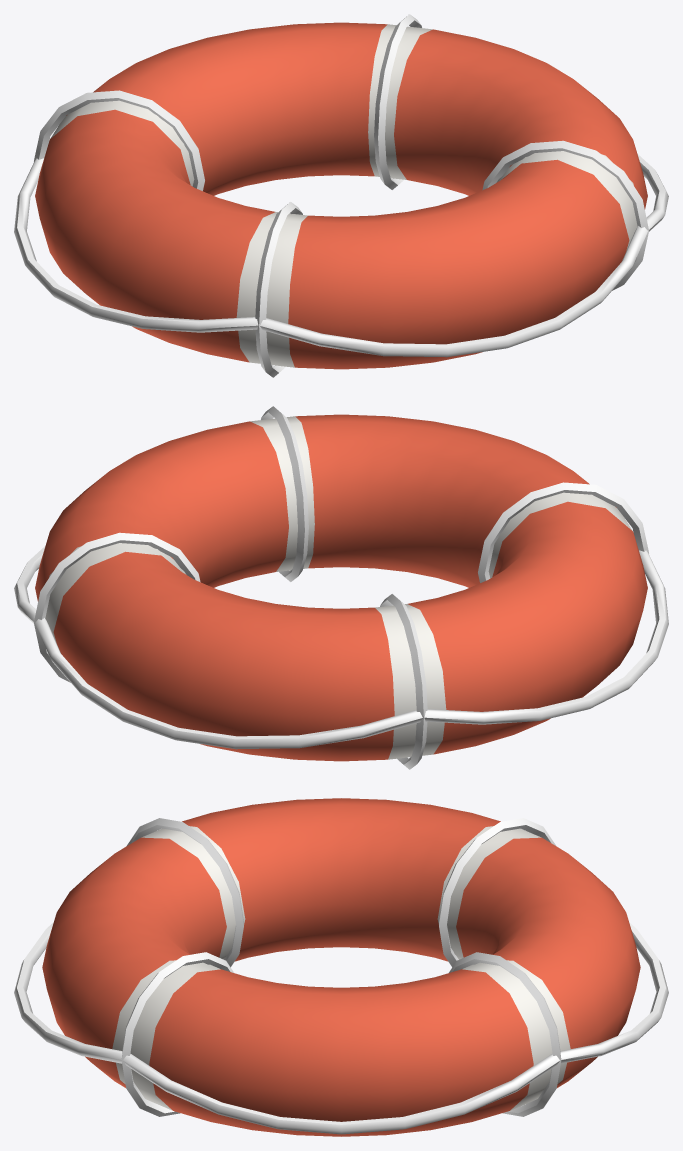
Rendered from life_ring.glb.
3 views of the same model, one above another, from view 1: azimuth 30°, elevation 25°; view 2: azimuth 150°, elevation 25°; view 3: azimuth 270°, elevation 25° (orthographic). The views are drawn at different scales.
Visible parts, largest first — view 1: LifeRing; view 2: LifeRing; view 3: LifeRing.
Boxes of the visible parts, bbox=[...] form: LifeRing: bbox=[14, 14, 668, 377]; LifeRing: bbox=[14, 406, 668, 769]; LifeRing: bbox=[14, 798, 668, 1136].
Bounding box in the file's own units: 0.832 × 0.22 × 0.832.
